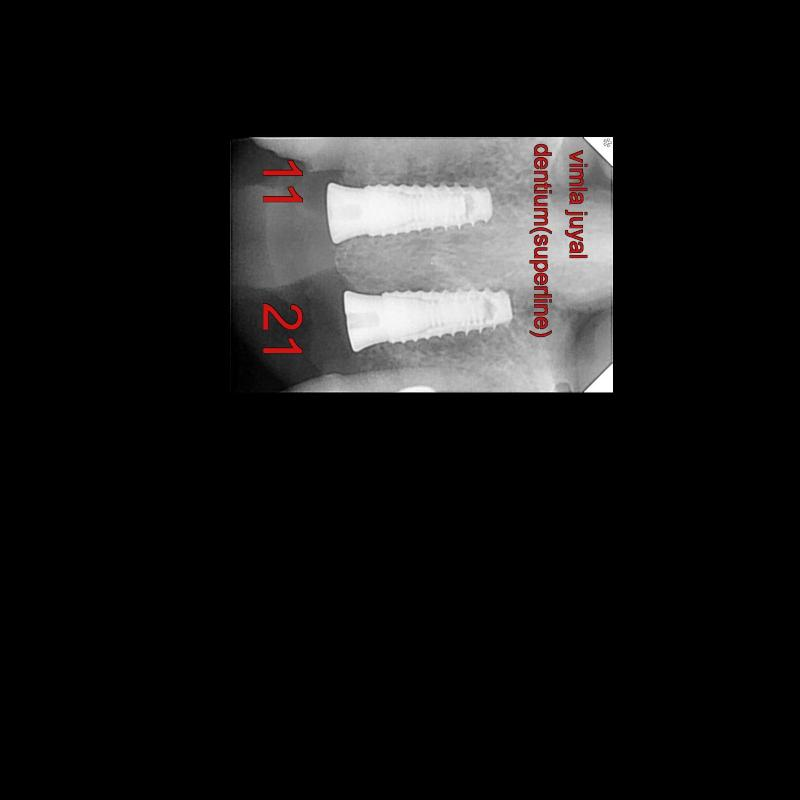Dentium: (361, 178, 497, 240), (384, 284, 516, 346)
